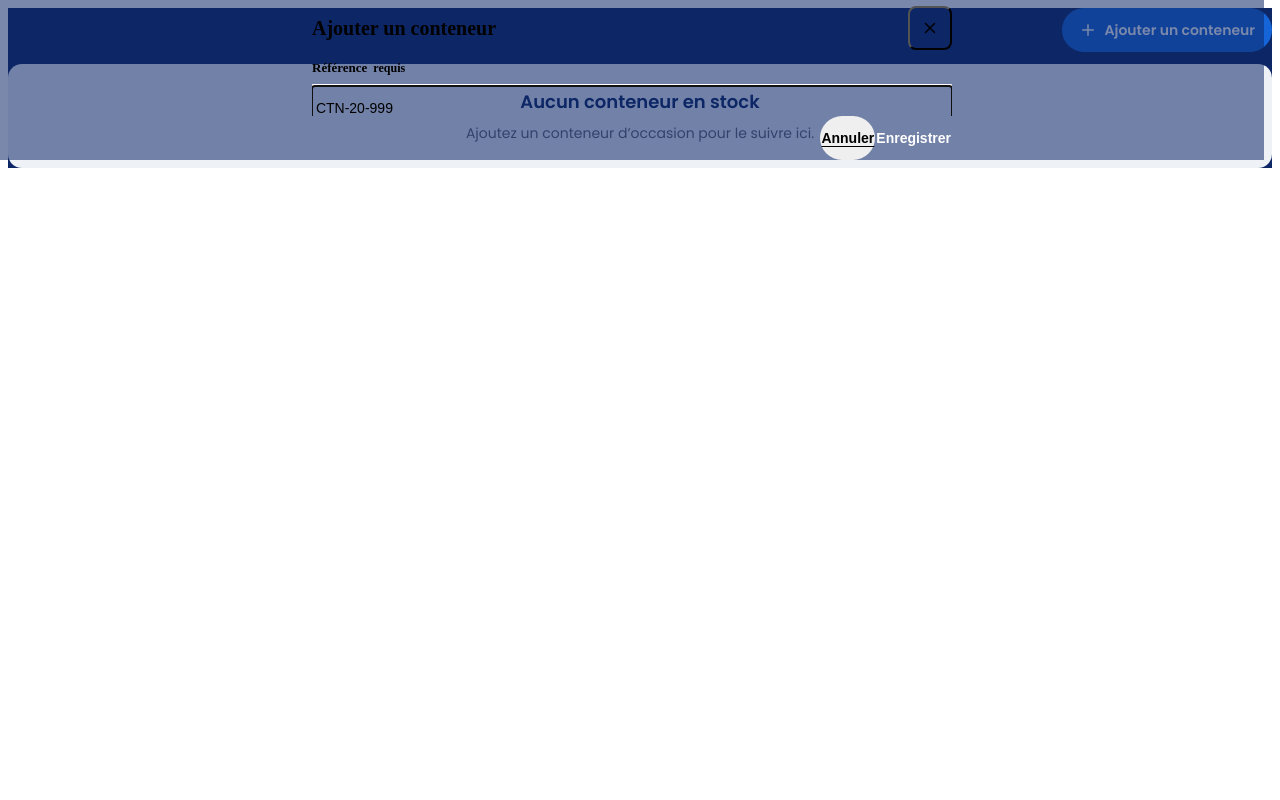
Scenario: Stock de conteneurs › refuse d’ajouter sans référence puis enregistre
The image size is (1280, 800).
Earlier steps of the test are not shown.
Click the button "Enregistrer". click: (914, 138)
box: [875,116,952,160]
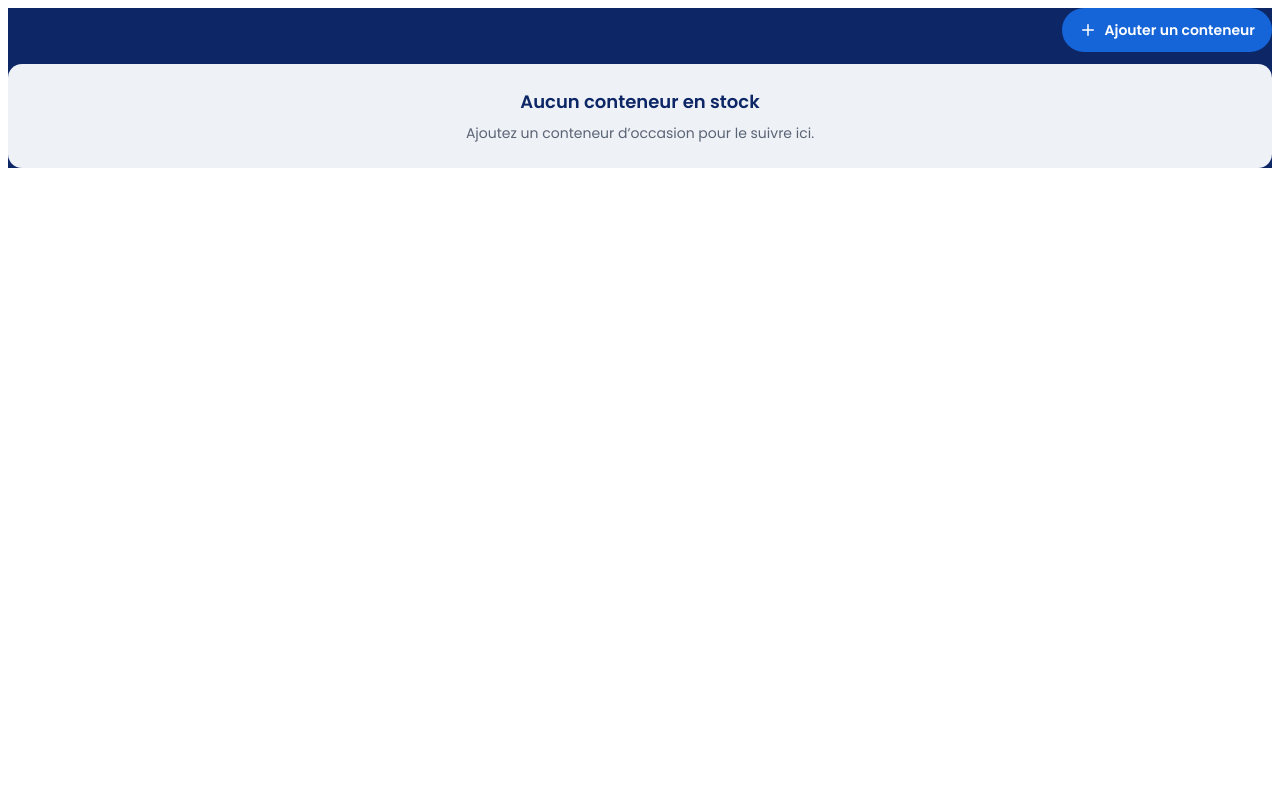
Check: the dialog is gone
